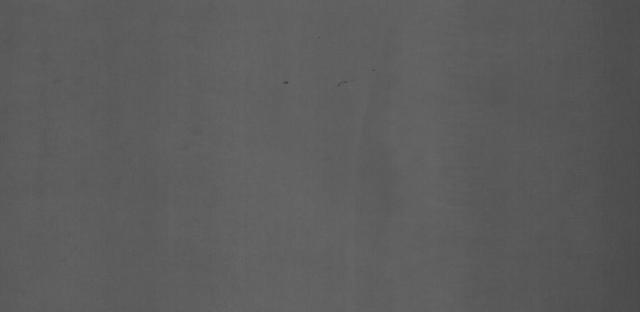inclusion: (276, 69, 292, 89), (336, 70, 352, 88)
